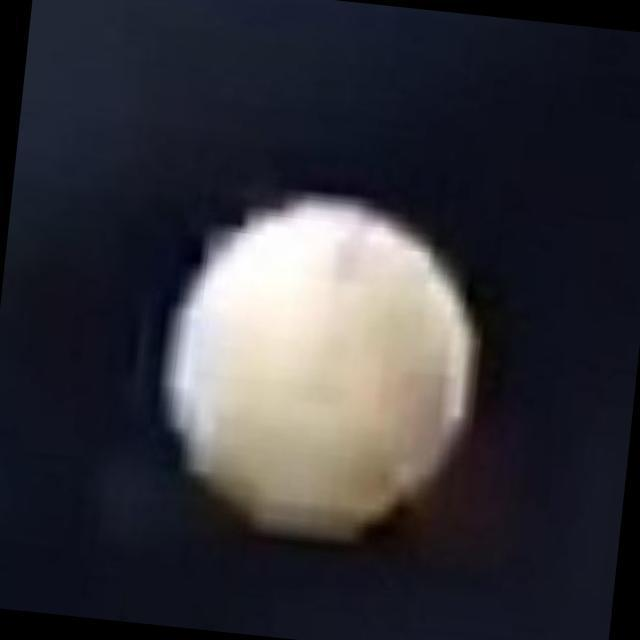-: (144, 176, 499, 557)
